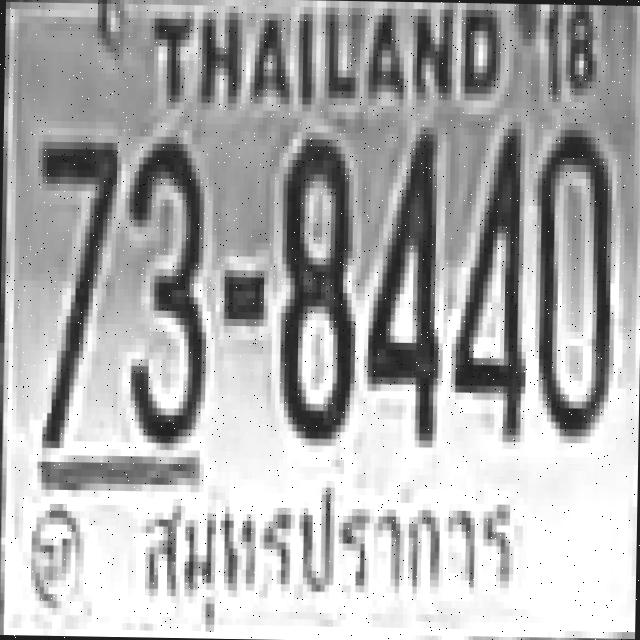0: (528, 126, 612, 433)
3: (120, 128, 204, 442)
4: (450, 121, 525, 435), (362, 123, 437, 437)
7: (33, 134, 117, 441), (34, 134, 117, 365)
8: (274, 132, 354, 438)
SamutPrakan: (134, 480, 525, 637)
